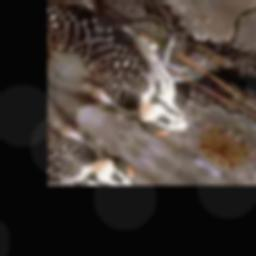Woodpecker: (62, 1, 256, 162)
